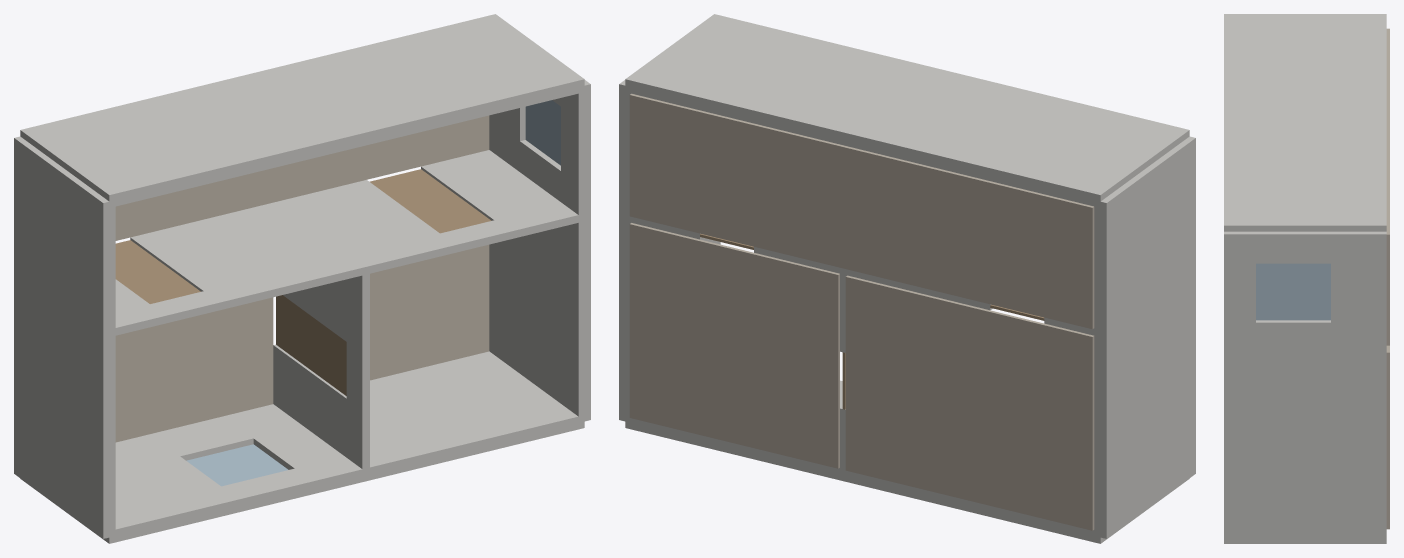
The model's file is plan.glb.
The picture shows the model from 3 angles, left to right: view 1: azimuth 30°, elevation 25°; view 2: azimuth 150°, elevation 25°; view 3: azimuth 270°, elevation 25°; orthographic projection. The views are drawn at different scales.
Visible parts, largest first — view 1: walls, floor_Room_2, floor_Room_1, floor_Room_3, doors, windows; view 2: walls, floor_Room_1, floor_Room_2, floor_Room_3; view 3: walls, windows, floor_Room_1, floor_Room_3.
Boxes of the visible parts, left/top/right/bottom form: walls: left=14, top=14, right=590, bottom=543; floor_Room_2: left=115, top=297, right=273, bottom=442; floor_Room_1: left=115, top=115, right=489, bottom=240; floor_Room_3: left=370, top=244, right=489, bottom=380; doors: left=115, top=169, right=491, bottom=395; windows: left=186, top=100, right=560, bottom=486; walls: left=619, top=14, right=1195, bottom=543; floor_Room_1: left=629, top=93, right=1094, bottom=329; floor_Room_2: left=845, top=275, right=1094, bottom=530; floor_Room_3: left=629, top=223, right=839, bottom=468; walls: left=1224, top=14, right=1386, bottom=543; windows: left=1256, top=263, right=1330, bottom=320; floor_Room_1: left=1386, top=28, right=1389, bottom=345; floor_Room_3: left=1386, top=345, right=1389, bottom=529.
Bounding box in the file's own units: 7.9 × 5.4 × 2.55.
